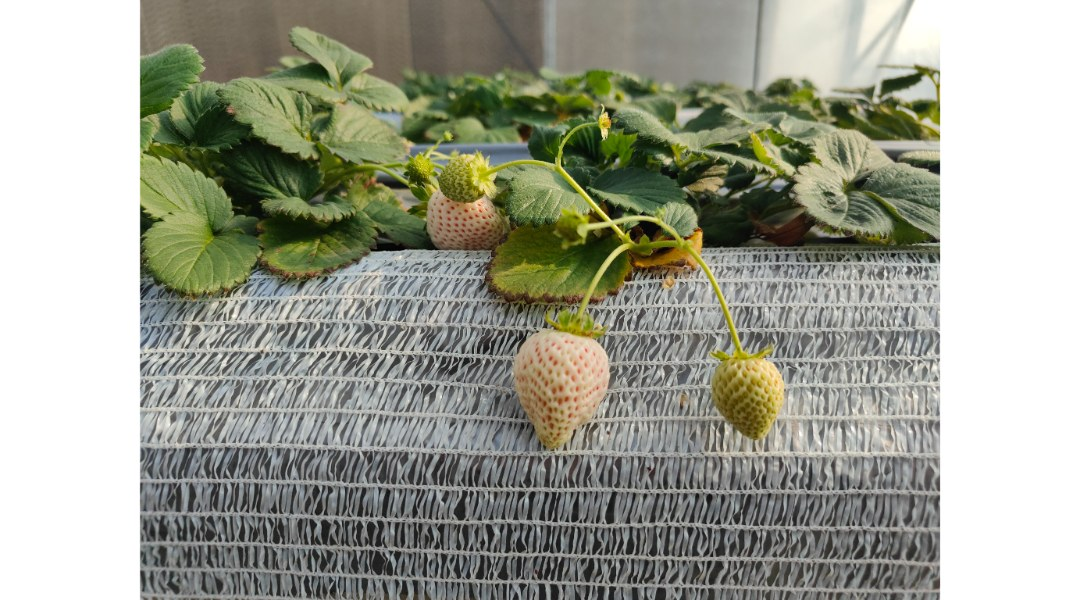berry: (502, 312, 624, 463), (699, 344, 782, 439), (417, 181, 519, 256), (436, 148, 503, 211), (547, 206, 595, 256), (589, 104, 611, 149), (406, 149, 430, 189)
strain: (689, 244, 743, 358), (559, 167, 628, 237), (568, 246, 621, 324), (547, 117, 597, 169), (484, 154, 553, 180), (630, 206, 679, 238)
